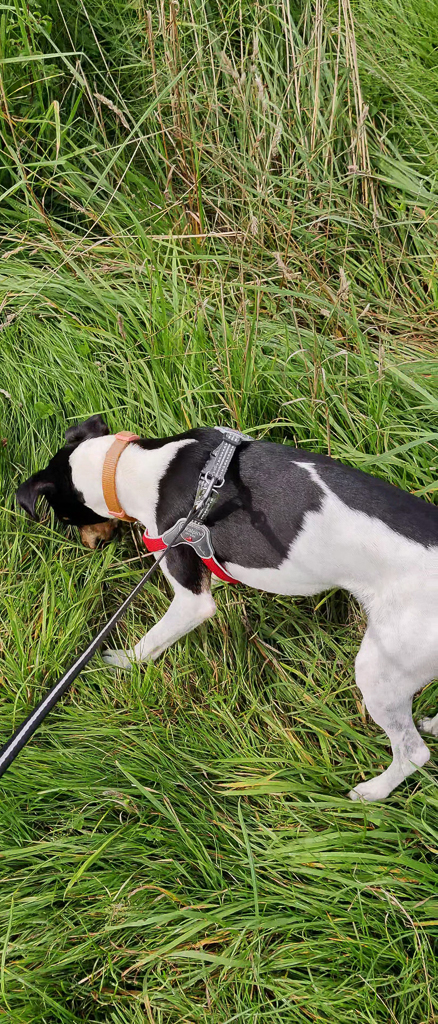Dog: (8, 402, 438, 820)
